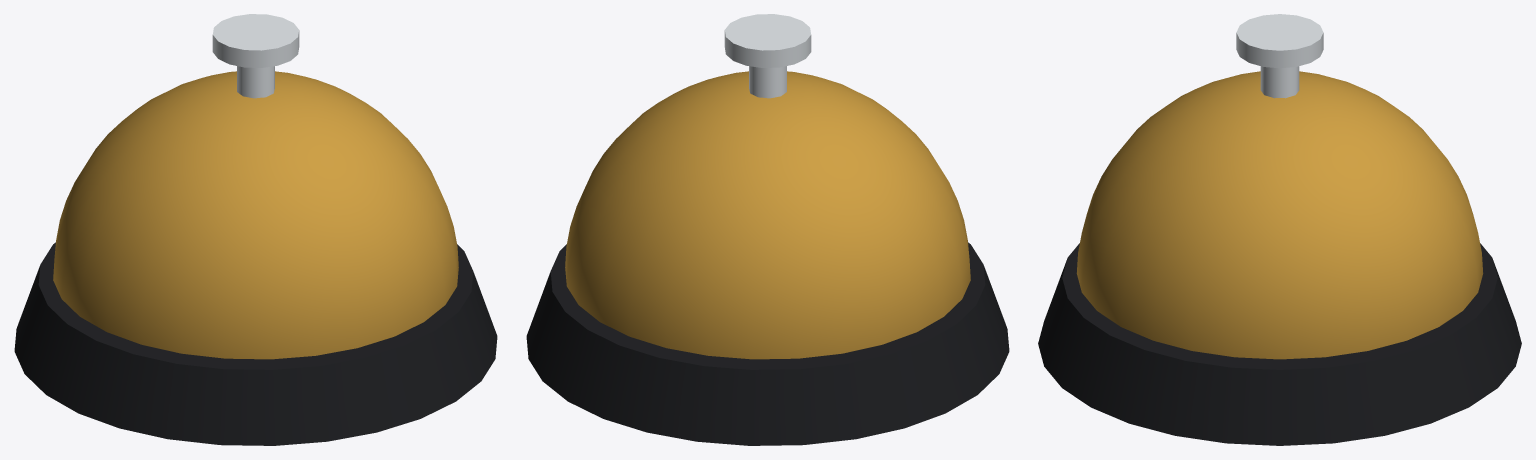
The model's file is counter-bell.glb.
3 views of the same model, side by side, from view 1: azimuth 30°, elevation 25°; view 2: azimuth 150°, elevation 25°; view 3: azimuth 270°, elevation 25° (orthographic).
Parts seen in each view (by area): view 1: brass, blackPlastic, chrome; view 2: brass, blackPlastic, chrome; view 3: brass, blackPlastic, chrome.
Boxes of the visible parts, <box> form: brass: <box>53,71,458,359</box>; blackPlastic: <box>14,242,497,445</box>; chrome: <box>212,14,299,98</box>; brass: <box>565,71,970,359</box>; blackPlastic: <box>526,242,1009,445</box>; chrome: <box>724,14,811,98</box>; brass: <box>1076,71,1483,359</box>; blackPlastic: <box>1038,243,1521,445</box>; chrome: <box>1236,14,1323,98</box>.
Bounding box in the file's own units: 0.1 × 0.071 × 0.1.
